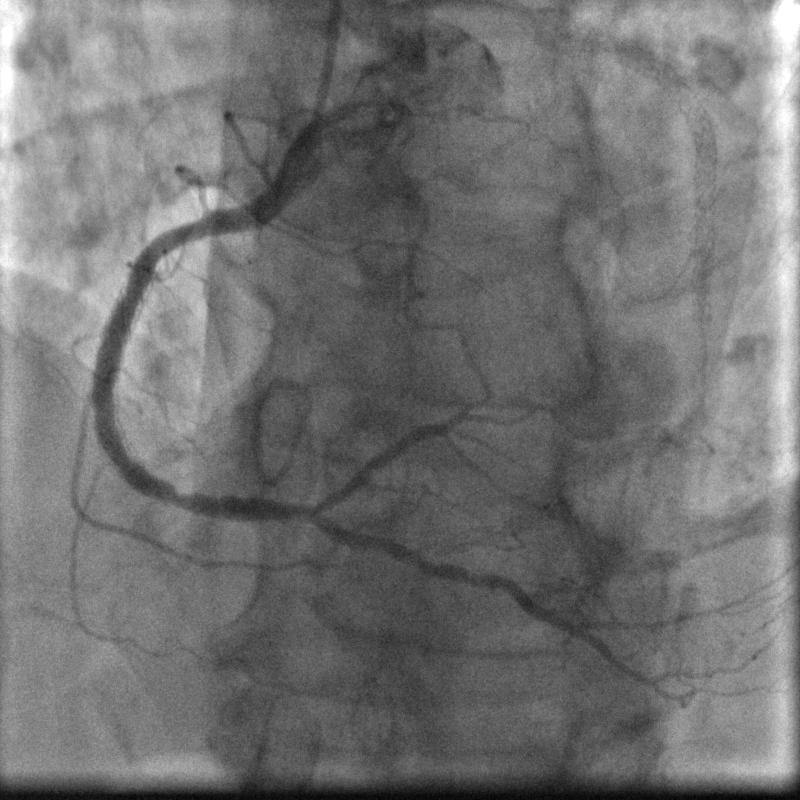Stenosis: (159, 208, 209, 245)
